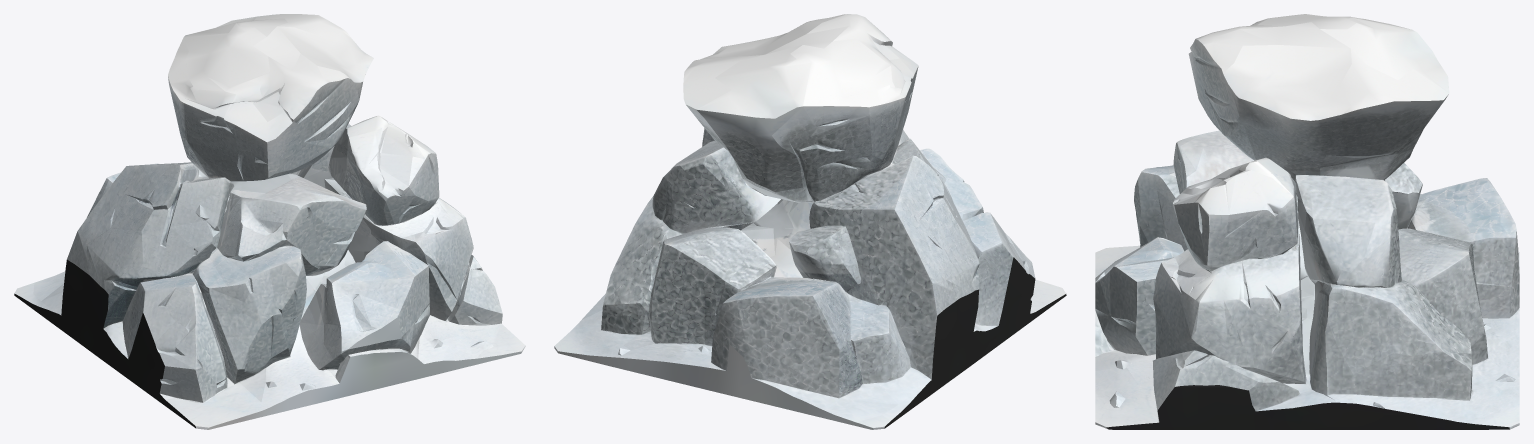
File: cover_half_snow.A.trim.glb
3 renders of one model, left to right at view 1: azimuth 30°, elevation 25°; view 2: azimuth 150°, elevation 25°; view 3: azimuth 270°, elevation 25°, orthographic. The views are drawn at different scales.
Bounding box in the file's own units: 0.98 × 0.7999 × 0.98.
Materials: 1 (1 with a texture image).
